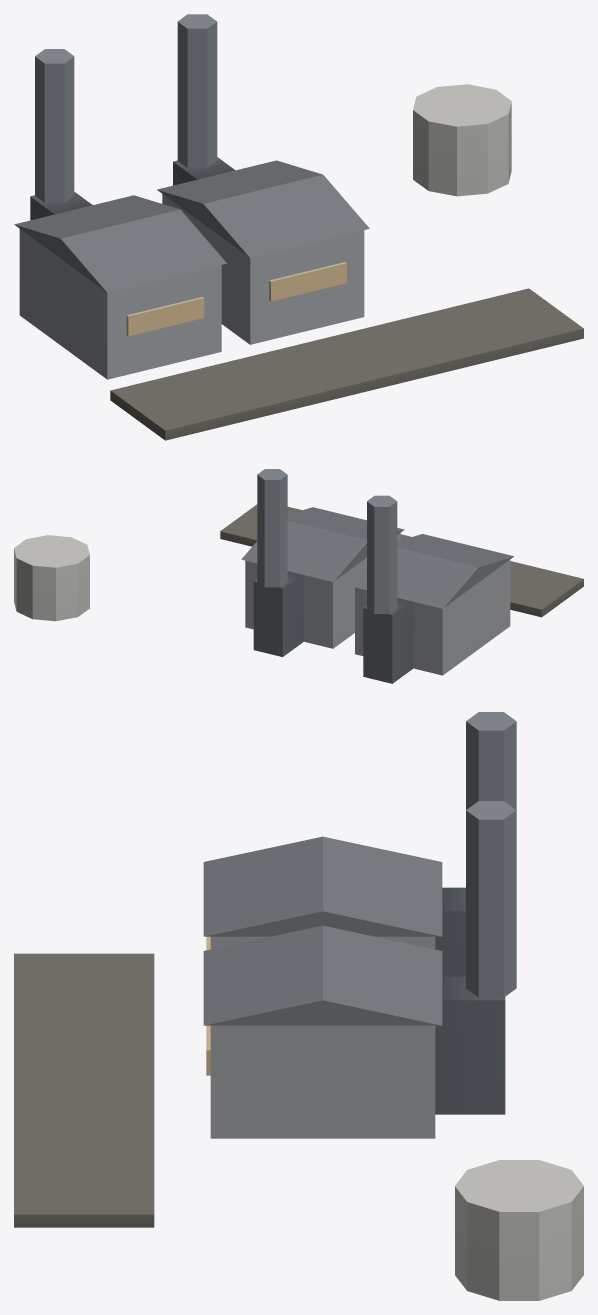
The model's file is plant_peaker_l1.fbx.
The picture shows the model from 3 angles, top to bottom: view 1: azimuth 30°, elevation 25°; view 2: azimuth 150°, elevation 25°; view 3: azimuth 270°, elevation 25°; orthographic projection. The views are drawn at different scales.
Parts seen in each view (by area): view 1: plant_peaker_l1; view 2: plant_peaker_l1; view 3: plant_peaker_l1.
Part boxes in pixels (box(x1,y1,x2,y2)): plant_peaker_l1: box(14, 14, 583, 440); plant_peaker_l1: box(14, 469, 583, 683); plant_peaker_l1: box(14, 712, 583, 1300).
Bounding box in the file's own units: 56.37 × 23 × 40.6.
